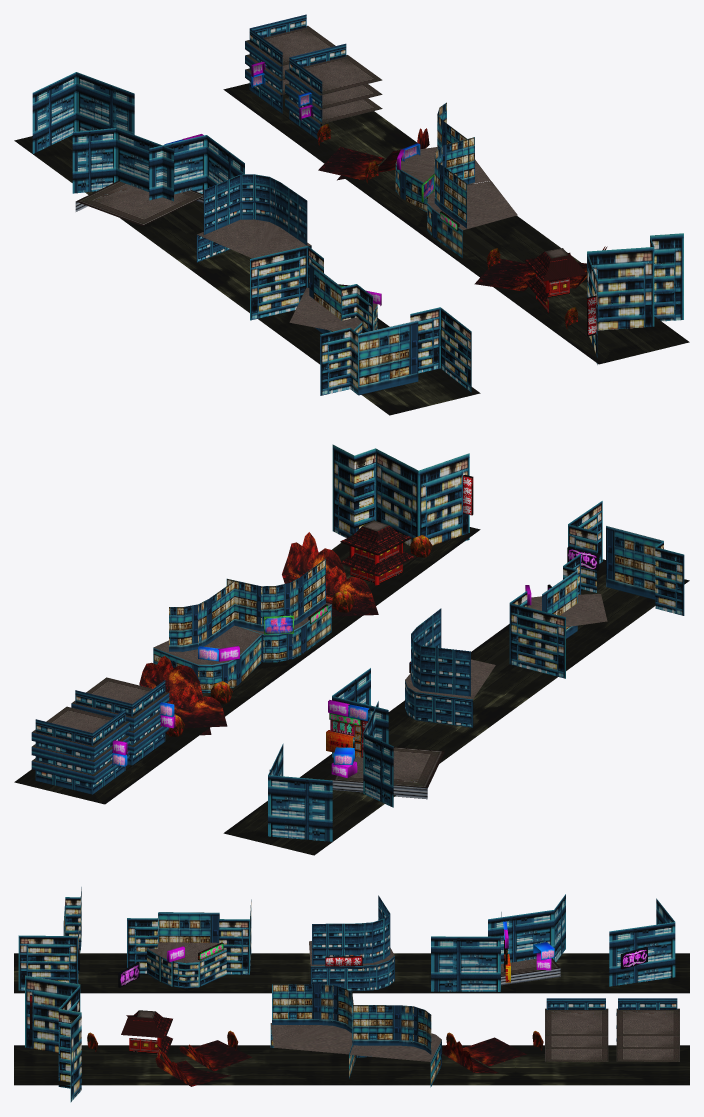
The model's file is as_downtown_mid2.fbx.
3 views of the same model, one above another, from view 1: azimuth 30°, elevation 25°; view 2: azimuth 150°, elevation 25°; view 3: azimuth 270°, elevation 25° (orthographic). The views are drawn at different scales.
Parts seen in each view (by area): view 1: as_downtown_mid2; view 2: as_downtown_mid2; view 3: as_downtown_mid2.
Part boxes in pixels (x1,y1,x2,y2): as_downtown_mid2: [14, 14, 689, 415]; as_downtown_mid2: [14, 444, 689, 855]; as_downtown_mid2: [14, 887, 689, 1102].
Bounding box in the file's own units: 5495 × 1340 × 10000.
